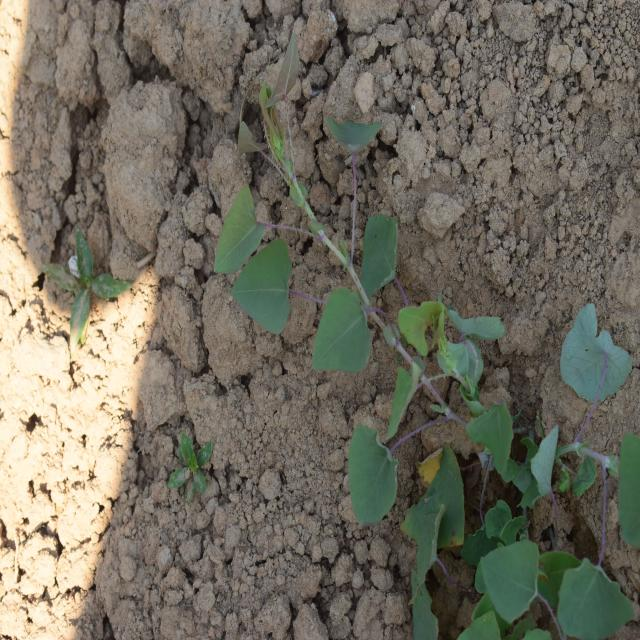Asiatic_Smartweed: (206, 49, 403, 369), (351, 402, 484, 611), (477, 490, 640, 640)
